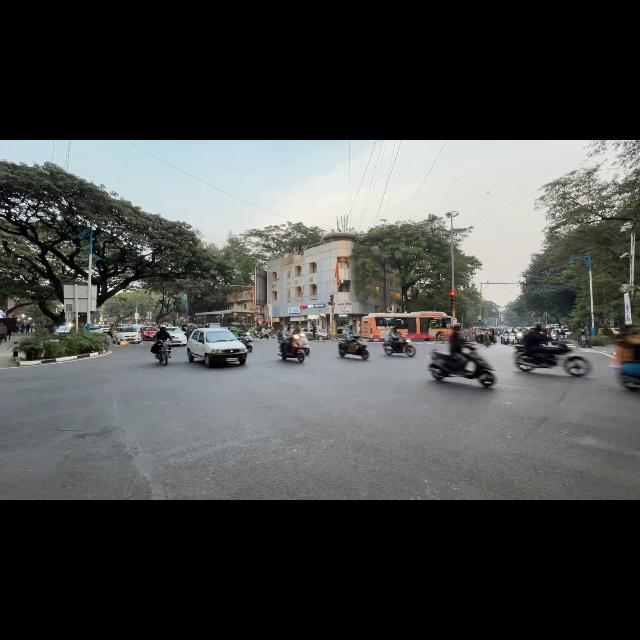bus: (361, 312, 451, 339), (195, 310, 254, 334)
car: (187, 328, 247, 366), (112, 326, 141, 344), (167, 327, 187, 345), (140, 326, 158, 340), (185, 325, 203, 338), (551, 328, 571, 339), (55, 326, 71, 336), (316, 330, 328, 339), (99, 325, 110, 333), (204, 323, 221, 328), (90, 326, 102, 333), (131, 324, 142, 331)
motorcycle: (429, 346, 495, 387), (515, 343, 591, 376), (338, 335, 369, 359), (279, 335, 304, 362), (383, 337, 415, 357), (618, 371, 639, 392), (155, 341, 171, 365), (238, 332, 252, 352), (300, 333, 309, 355), (516, 331, 524, 345), (580, 335, 588, 348), (509, 333, 516, 344), (501, 333, 508, 344), (259, 332, 269, 339)
